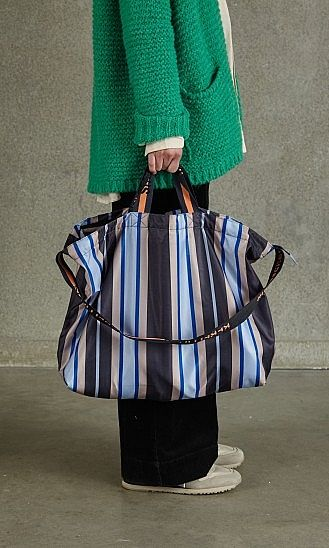nylon: (56, 164, 293, 402)
